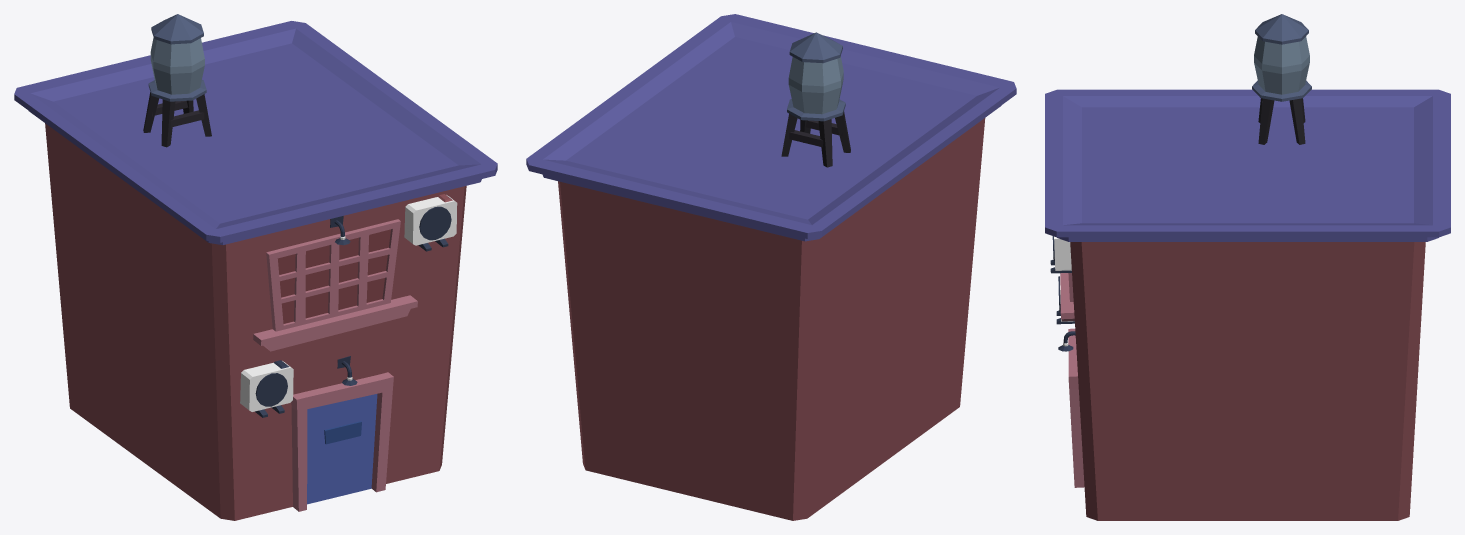
Rendered from building 5.fbx.
3 views of the same model, side by side, from view 1: azimuth 30°, elevation 25°; view 2: azimuth 150°, elevation 25°; view 3: azimuth 270°, elevation 25° (orthographic).
Visible parts, largest first — view 1: Cube.225, Circle.006; view 2: Cube.225, Circle.006; view 3: Cube.225, Circle.006.
Part boxes in pixels (box(x1,y1,x2,y2)): Cube.225: box(14, 21, 497, 520); Circle.006: box(143, 14, 211, 147); Cube.225: box(526, 14, 1016, 520); Circle.006: box(781, 32, 850, 167); Cube.225: box(1045, 89, 1450, 520); Circle.006: box(1252, 14, 1311, 144).
Bounding box in the file's own units: 3600 × 5023 × 4355.
